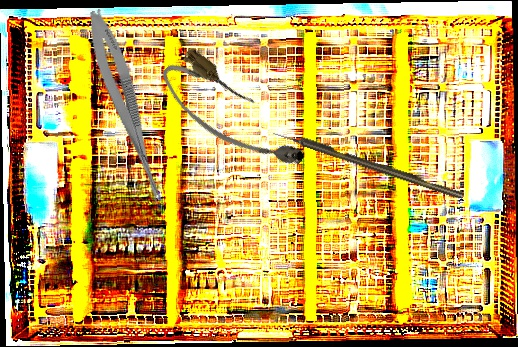Cannula: (152, 42, 313, 190)
Hook Surgical: (272, 127, 465, 201)
Micro Scissor: (79, 6, 178, 211)
